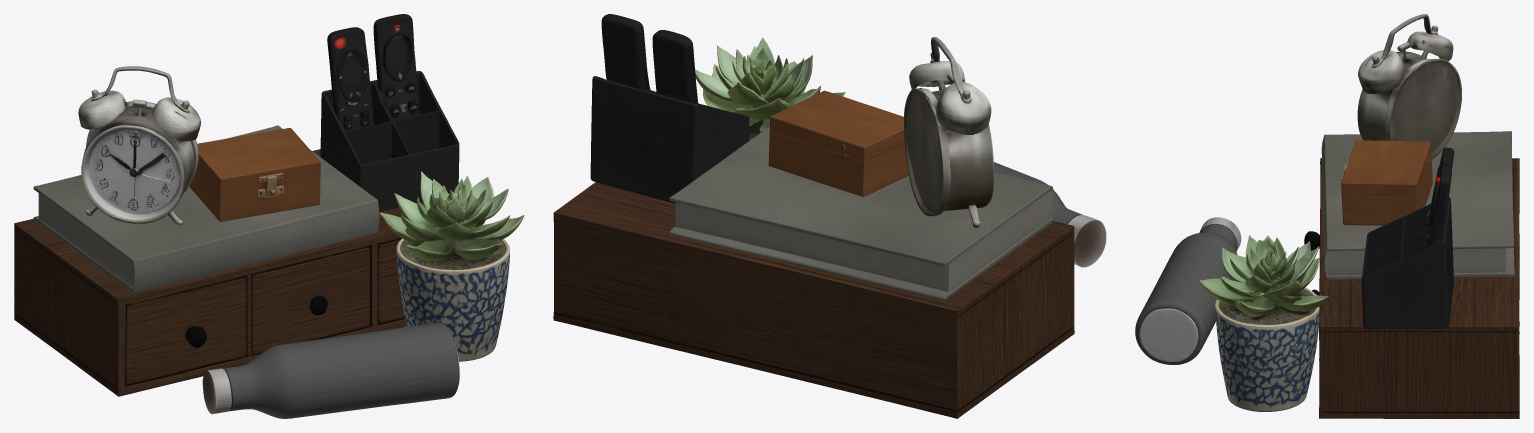
Rendered from phi-scene.glb.
The picture shows the model from 3 angles, left to right: view 1: azimuth 30°, elevation 25°; view 2: azimuth 150°, elevation 25°; view 3: azimuth 270°, elevation 25°; orthographic projection. The views are drawn at different scales.
Visible parts, largest first — view 1: object_06, object_04, object_02, object_05, object_03, object_01, object_00; view 2: object_06, object_04, object_02, object_01, object_00, object_03, object_05; view 3: object_06, object_03, object_04, object_02, object_01, object_05, object_00.
Boxes of the visible parts, left/top/right/bottom form: object_06: left=14, top=149, right=422, bottom=396; object_04: left=33, top=125, right=379, bottom=293; object_02: left=320, top=14, right=459, bottom=211; object_05: left=202, top=322, right=459, bottom=418; object_03: left=380, top=171, right=524, bottom=361; object_01: left=78, top=66, right=200, bottom=225; object_00: left=190, top=128, right=320, bottom=221; object_06: left=553, top=182, right=1074, bottom=418; object_04: left=669, top=126, right=1054, bottom=300; object_02: left=590, top=14, right=749, bottom=203; object_01: left=903, top=37, right=994, bottom=227; object_00: left=768, top=90, right=908, bottom=196; object_03: left=695, top=37, right=845, bottom=140; object_05: left=994, top=162, right=1106, bottom=267; object_06: left=1304, top=158, right=1519, bottom=418; object_03: left=1199, top=235, right=1328, bottom=411; object_04: left=1321, top=131, right=1514, bottom=279; object_02: left=1361, top=147, right=1454, bottom=328; object_01: left=1357, top=14, right=1461, bottom=159; object_05: left=1135, top=217, right=1241, bottom=364; object_00: left=1340, top=140, right=1432, bottom=225.
Size of the model in its own units: 1.02 by 0.7395 by 0.9675.
7 materials, 7 textured.
